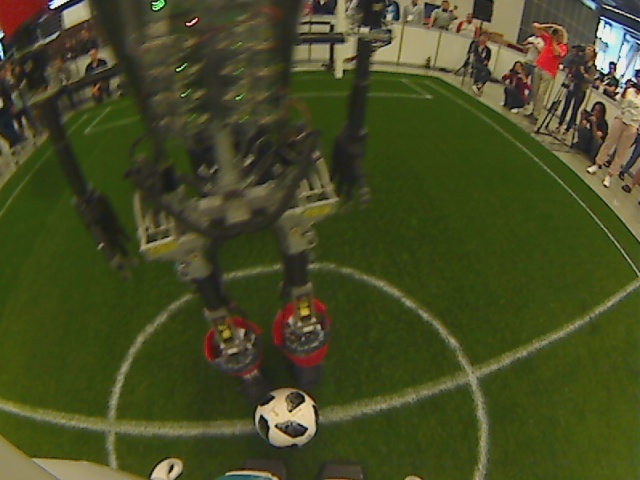ball: (254, 387, 320, 451)
